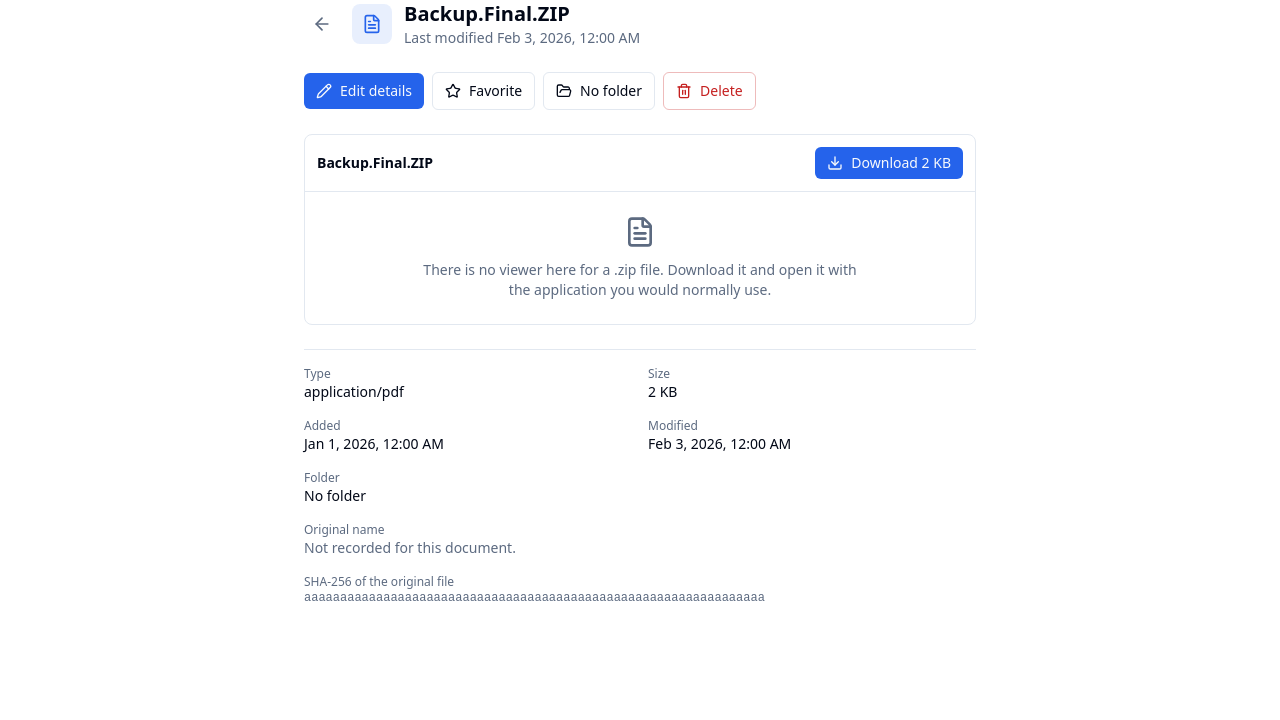
DocumentDetail — editing name, tags and note › edits only the part of the name before the extension, and says the type is fixed
This screenshot has width=1280, height=720.
Click the button "Edit details": (364, 91) [304,73,424,109]
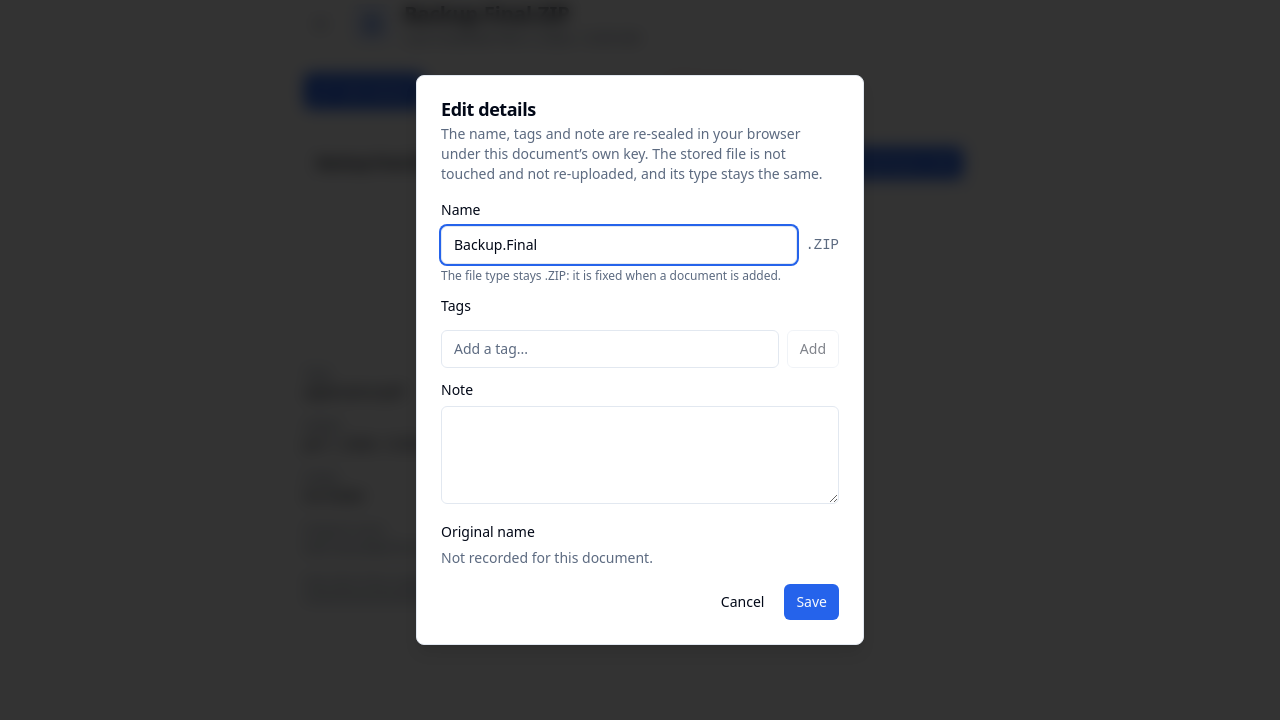
Expected: the field labelled "Name" holds "Backup.Final", [441,226,797,264]
Expected: the text with test id "document-edit-suffix" reads ".ZIP", [805,237,839,253]
